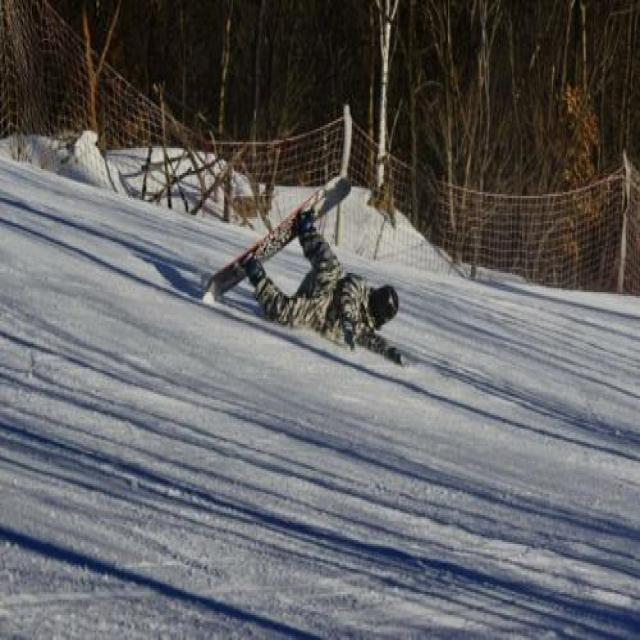down: (202, 164, 434, 390)
